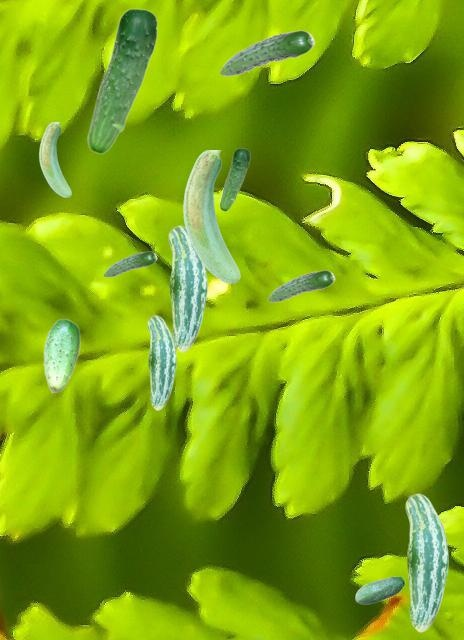cucumber: (86, 8, 157, 153), (183, 150, 239, 282), (405, 493, 447, 631), (168, 225, 206, 351), (219, 30, 314, 75), (43, 318, 79, 392), (147, 315, 175, 409), (39, 122, 70, 196), (267, 270, 334, 301), (219, 148, 249, 210), (103, 251, 156, 276), (355, 576, 404, 603)
